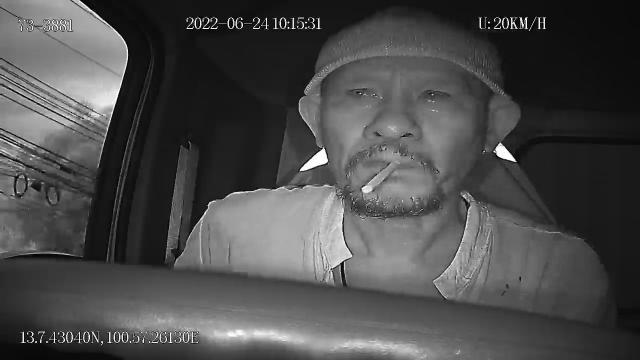SafeDriving: (408, 77, 462, 110), (338, 75, 387, 108)
Smoking: (362, 159, 402, 197)
